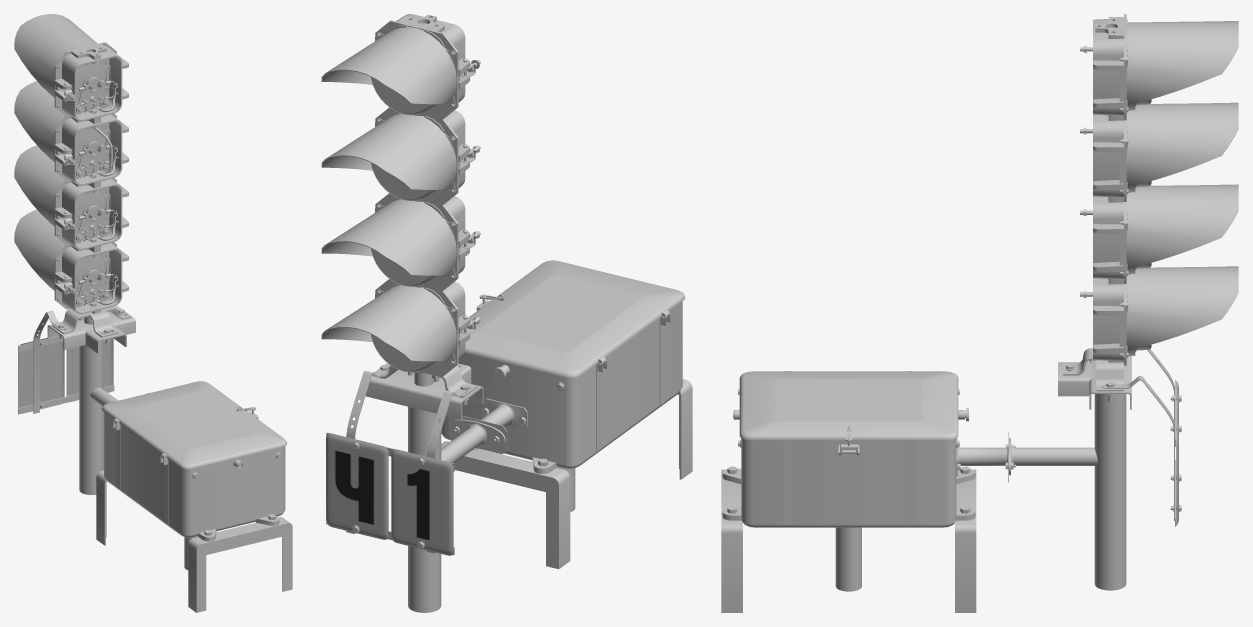
3 views of the same model, side by side, from view 1: azimuth 30°, elevation 25°; view 2: azimuth 150°, elevation 25°; view 3: azimuth 270°, elevation 25° (orthographic). The views are drawn at different scales.
Parts seen in each view (by area): view 1: Object001, CH4_L4, CH4_L4_Box_Cover, Object003, inner_2, inner_003, inner_1, inner_004, ramka2x, CH1_L4_LHolder_Y, CH1_L4_LHolder_Y003, CH1_L4_LHolder_Y002 (+1 smaller); view 2: Object001, CH4_L4, CH4_L4_Box_Cover, Object003, ramka2x, Light_Glass_E2, Light_Glass_B, Light_Glass_E, Light_Glass_R; view 3: Object001, CH4_L4, CH4_L4_Box_Cover, ramka2x.
Part boxes in pixels (left/top/right/bottom): Object001: left=14, top=14, right=135, bottom=495; CH4_L4: left=96, top=393, right=292, bottom=612; CH4_L4_Box_Cover: left=101, top=381, right=287, bottom=469; Object003: left=18, top=337, right=113, bottom=413; inner_2: left=74, top=120, right=122, bottom=185; inner_003: left=74, top=184, right=122, bottom=249; inner_1: left=74, top=56, right=122, bottom=121; inner_004: left=74, top=249, right=122, bottom=314; ramka2x: left=18, top=305, right=127, bottom=414; CH1_L4_LHolder_Y: left=76, top=73, right=110, bottom=113; CH1_L4_LHolder_Y003: left=76, top=266, right=110, bottom=306; CH1_L4_LHolder_Y002: left=76, top=202, right=110, bottom=242; Object001: left=321, top=14, right=505, bottom=612; CH4_L4: left=441, top=301, right=692, bottom=569; CH4_L4_Box_Cover: left=465, top=260, right=685, bottom=378; Object003: left=326, top=433, right=453, bottom=555; ramka2x: left=326, top=367, right=471, bottom=555; Light_Glass_E2: left=371, top=248, right=445, bottom=287; Light_Glass_B: left=371, top=334, right=445, bottom=373; Light_Glass_E: left=371, top=77, right=441, bottom=115; Light_Glass_R: left=371, top=163, right=441, bottom=201; Object001: left=1009, top=14, right=1238, bottom=590; CH4_L4: left=721, top=389, right=1008, bottom=612; CH4_L4_Box_Cover: left=739, top=371, right=958, bottom=440; ramka2x: left=1104, top=349, right=1181, bottom=526.
Bounding box in the file's own units: 0.3724 × 1.33 × 1.12.
